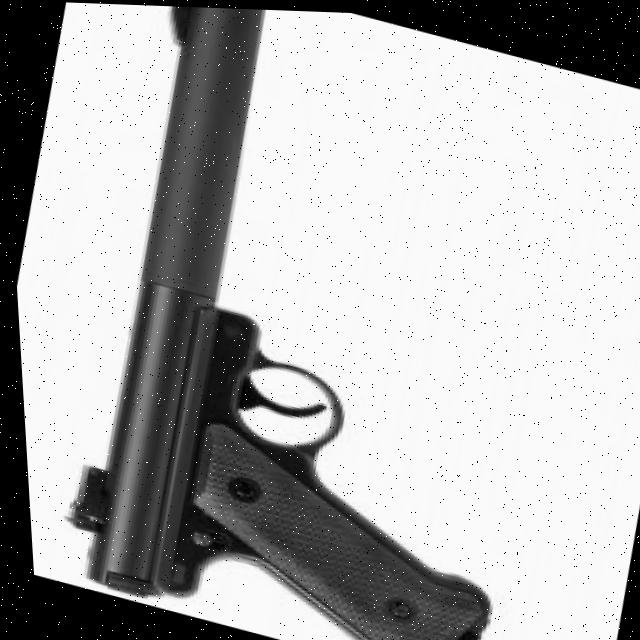pistol: (19, 1, 608, 640)
